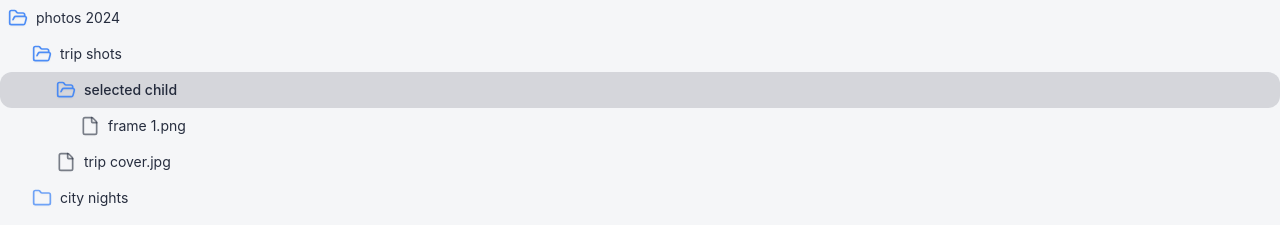
FileTree › builds tree data, expands required ancestors, and lets selected folders collapse locally
Expected: the text "frame 1.png" is shown, [108, 116, 186, 136]
Expected: the text "photos 2024" is shown, [36, 8, 120, 28]
Click the text "selected child". click: (130, 90)
box: [84, 80, 177, 100]
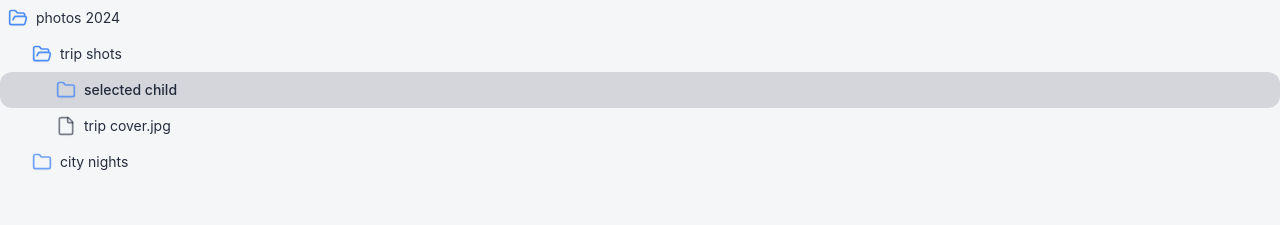
Expected: the text "trip shots" is shown, [60, 44, 122, 64]
Result: the text "frame 1.png" is gone
Click the text "selected child". click: (130, 90)
box: [84, 80, 177, 100]
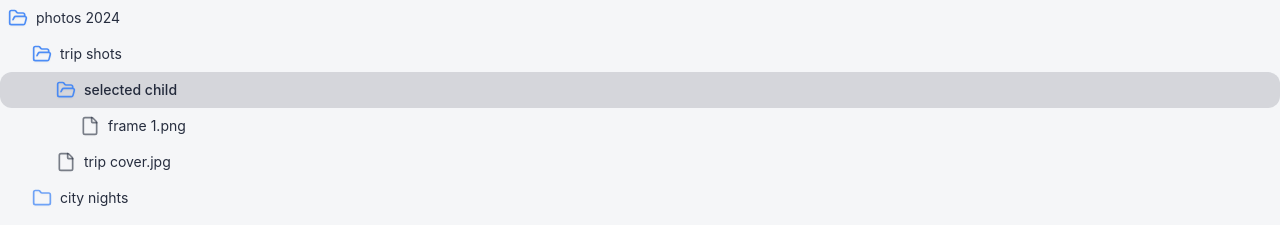
Result: the text "frame 1.png" is shown at [108, 116, 186, 136]
